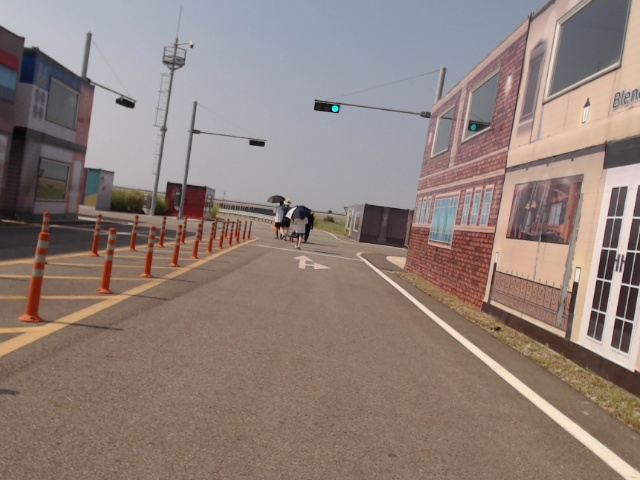green_3: (314, 102, 340, 114)
